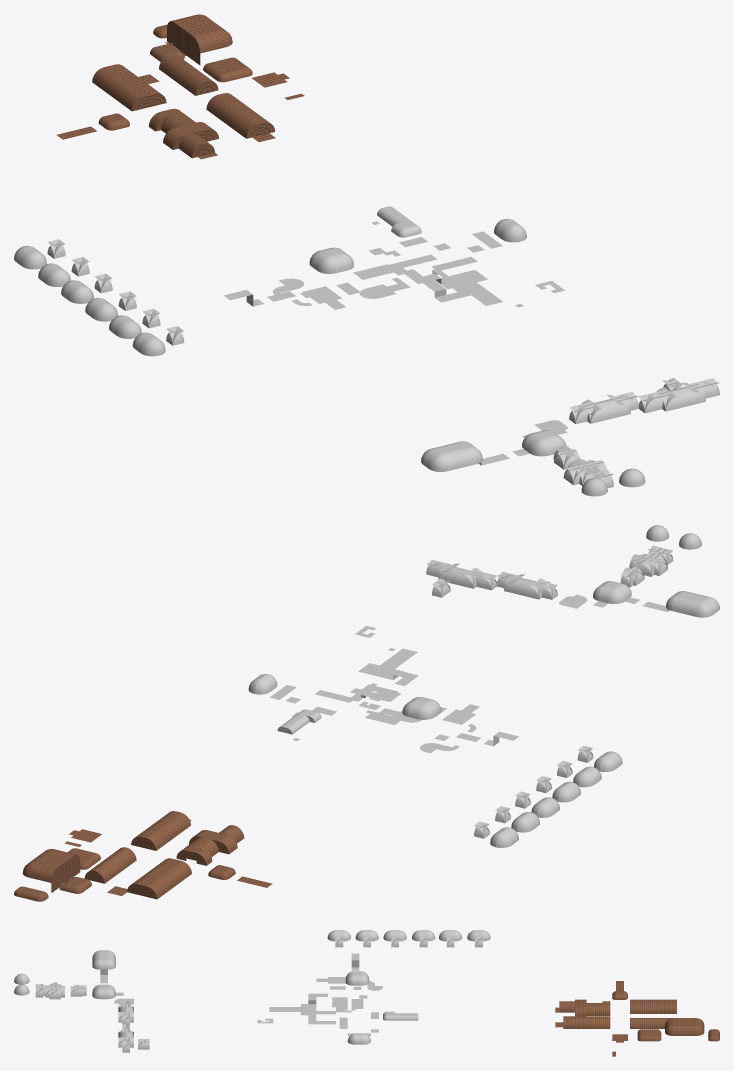
The model's file is Room 1 Ceilings Only.fbx.
3 renders of one model, top to bottom at view 1: azimuth 30°, elevation 25°; view 2: azimuth 150°, elevation 25°; view 3: azimuth 270°, elevation 25°, orthographic. The views are drawn at different scales.
Visible parts, largest first — view 1: room29_ceiling01, room27_ceiling01, room25_ceiling01, pasted__room19_ceiling01, room26_ceiling01, pasted__room18_ceiling01, pasted__room12_ceiling02, pasted__room07_Ceiling01, room23_ceiling01, pasted__room20_ceiling01, pasted__room16_ceiling01, room31_ceiling01; view 2: room29_ceiling01, room27_ceiling01, pasted__room19_ceiling01, room25_ceiling01, room26_ceiling01, pasted__room18_ceiling01, pasted__room12_ceiling02, room23_ceiling01, pasted__room07_Ceiling01, pasted__room20_ceiling01, pasted__room16_ceiling01; view 3: room27_ceiling01, room25_ceiling01, room26_ceiling01, room29_ceiling01, pasted__room19_ceiling01, pasted__room07_Ceiling01, pasted__room16_ceiling01, pasted__room12_ceiling02, pasted__room20_ceiling01, room23_ceiling01, pasted__room18_ceiling01, pasted__room01_ceiling01 (+3 smaller).
Boxes of the visible parts, bbox=[...] form: room29_ceiling01: bbox=[151, 14, 225, 65]; room27_ceiling01: bbox=[148, 108, 218, 159]; room25_ceiling01: bbox=[92, 64, 166, 111]; pasted__room19_ceiling01: bbox=[639, 378, 719, 413]; room26_ceiling01: bbox=[206, 93, 275, 142]; pasted__room18_ceiling01: bbox=[569, 392, 639, 423]; pasted__room12_ceiling02: bbox=[224, 278, 346, 309]; pasted__room07_Ceiling01: bbox=[402, 269, 502, 305]; room23_ceiling01: bbox=[159, 54, 218, 95]; pasted__room20_ceiling01: bbox=[422, 441, 509, 470]; pasted__room16_ceiling01: bbox=[563, 459, 613, 488]; room31_ceiling01: bbox=[204, 57, 249, 81]; room29_ceiling01: bbox=[28, 849, 91, 893]; room27_ceiling01: bbox=[176, 825, 244, 865]; pasted__room19_ceiling01: bbox=[426, 559, 496, 597]; room25_ceiling01: bbox=[127, 858, 191, 899]; room26_ceiling01: bbox=[131, 811, 191, 850]; pasted__room18_ceiling01: bbox=[496, 571, 557, 599]; pasted__room12_ceiling02: bbox=[420, 704, 518, 753]; room23_ceiling01: bbox=[84, 847, 136, 883]; pasted__room07_Ceiling01: bbox=[358, 648, 418, 685]; pasted__room20_ceiling01: bbox=[642, 591, 718, 616]; pasted__room16_ceiling01: bbox=[629, 545, 673, 576]; room27_ceiling01: bbox=[555, 999, 610, 1016]; room25_ceiling01: bbox=[630, 999, 676, 1013]; room26_ceiling01: bbox=[555, 1016, 610, 1028]; room29_ceiling01: bbox=[665, 1018, 704, 1035]; pasted__room19_ceiling01: bbox=[118, 1024, 149, 1052]; pasted__room07_Ceiling01: bbox=[269, 993, 327, 1015]; pasted__room16_ceiling01: bbox=[35, 982, 64, 999]; pasted__room12_ceiling02: bbox=[316, 953, 382, 990]; pasted__room20_ceiling01: bbox=[92, 950, 115, 983]; room23_ceiling01: bbox=[630, 1018, 671, 1028]; pasted__room18_ceiling01: bbox=[118, 1000, 133, 1024]; pasted__room01_ceiling01: bbox=[330, 971, 369, 989].
Size of the model in its own units: 278 by 32 by 720.
